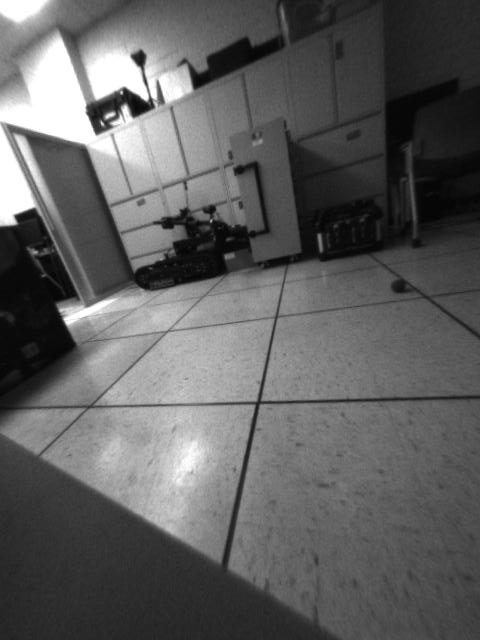dogtoy: (385, 269, 416, 297)
